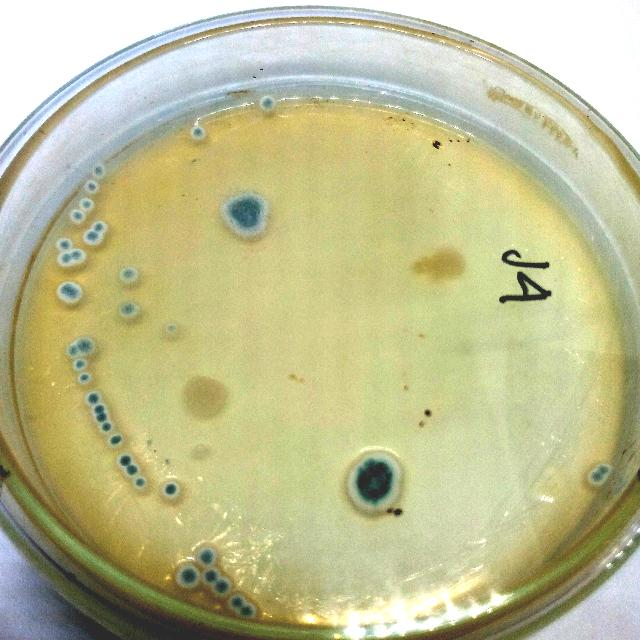colony: (345, 448, 403, 514), (180, 373, 232, 421), (222, 190, 270, 238), (428, 244, 468, 280), (174, 564, 202, 592), (57, 281, 83, 305), (160, 479, 182, 501), (211, 578, 233, 598), (196, 546, 218, 566), (119, 300, 139, 320), (77, 336, 97, 356), (586, 469, 606, 488), (594, 459, 614, 478), (202, 568, 222, 586), (259, 95, 277, 114), (228, 593, 246, 611), (64, 342, 82, 360), (120, 266, 138, 284), (237, 602, 257, 618), (68, 247, 86, 263), (69, 208, 87, 224), (189, 125, 207, 141), (124, 462, 140, 478), (58, 251, 74, 267), (84, 229, 100, 245), (92, 220, 108, 236), (90, 163, 106, 179), (132, 476, 148, 490), (108, 433, 124, 447), (92, 402, 108, 416), (76, 371, 92, 385), (72, 358, 88, 372), (56, 237, 72, 251), (99, 420, 113, 434), (86, 391, 100, 405), (80, 198, 94, 212), (84, 180, 98, 194), (118, 454, 132, 466), (94, 412, 108, 423)
